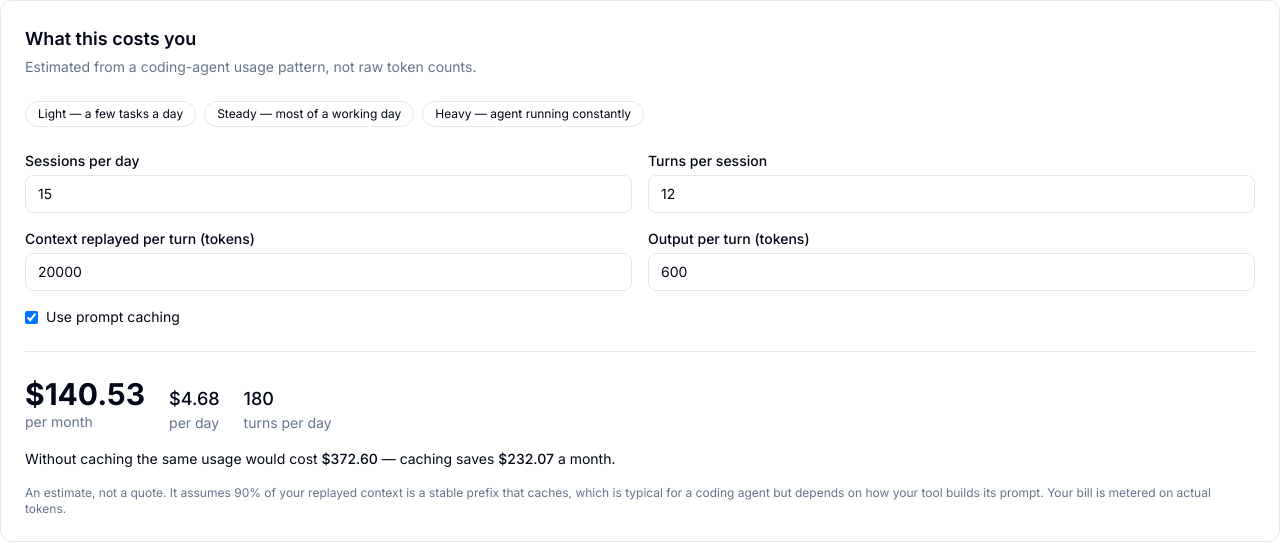
Test: CostCalculator › presets change the inputs
Click the button "Heavy — agent running constantly".
click(533, 114)  # box [422,101,644,127]
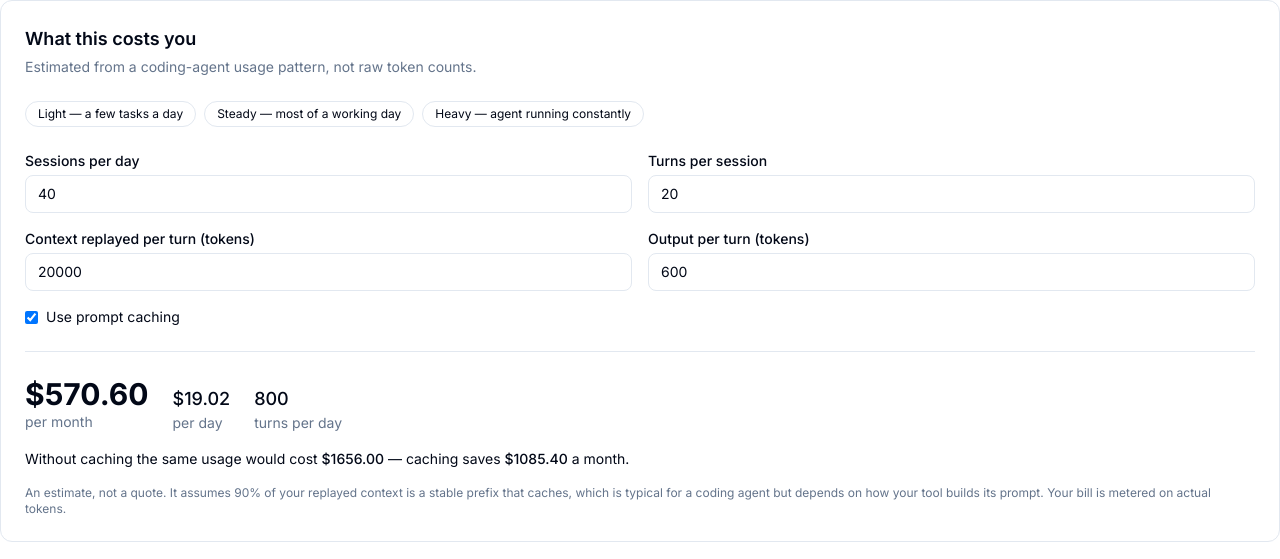
Now the number field showing "40" is shown, box [25,175,632,213]
